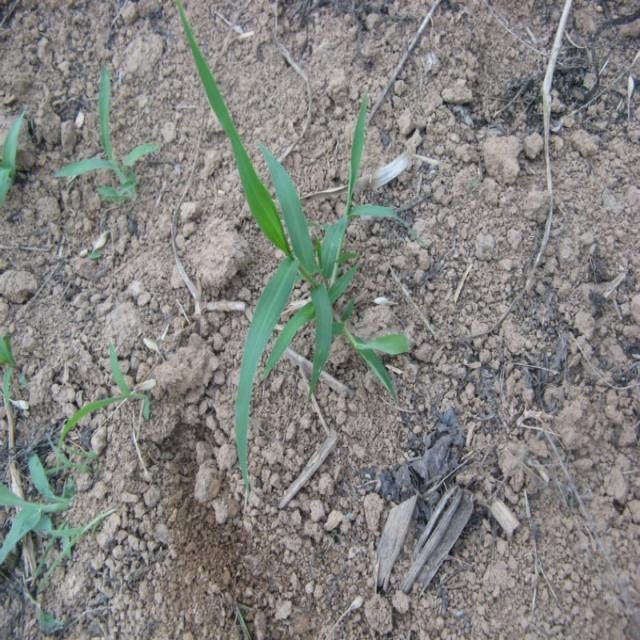bg: (180, 15, 408, 469)
